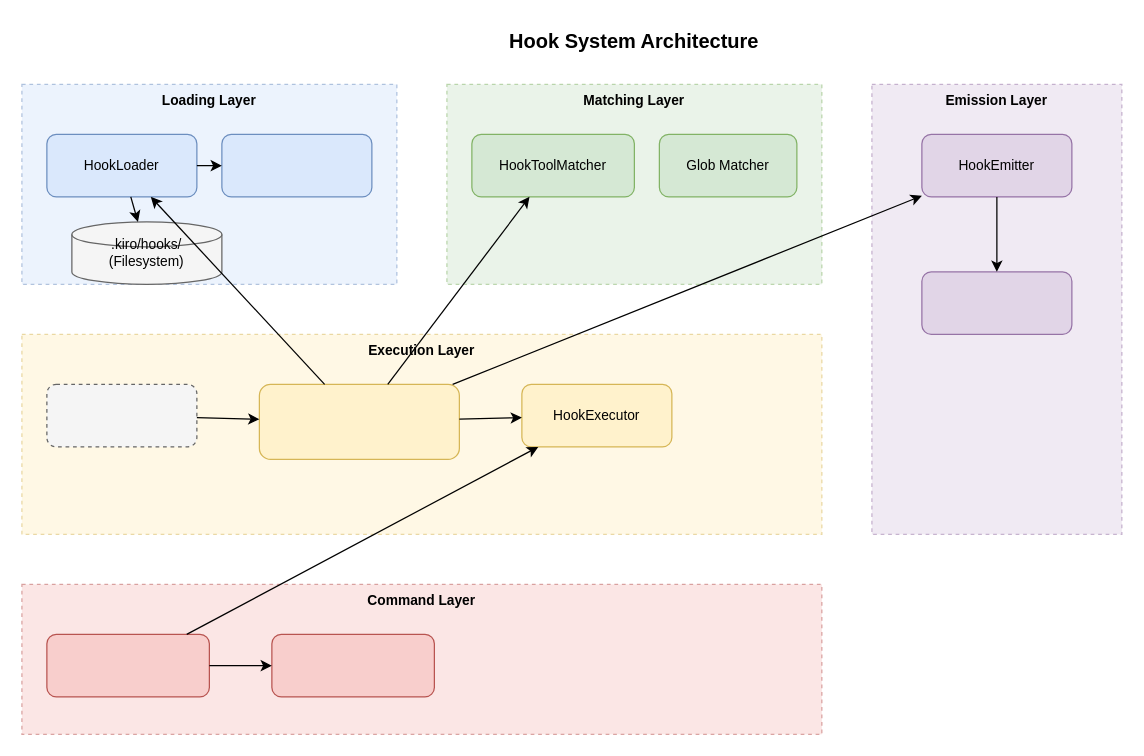
Some shapes in this 1144 by 756 pixel diagram are drawn without their labels. Here are the shapes that lost their labels. From the top down, the centre of each, then its label:
At pixel 296 165: "HookFilters (Validator)".
At pixel 996 302: "StreamHandler (Chat Panel)".
At pixel 121 415: "LangGraph Pipeline".
At pixel 358 421: "HookEngine (Orchestrator)".
At pixel 127 665: "HookCommands".
At pixel 352 665: "VS Code Commands API".
